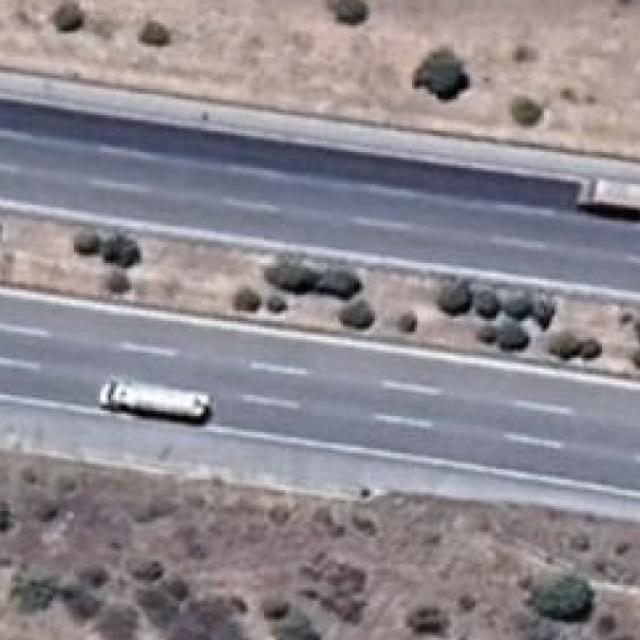Tree: (528, 566, 597, 626), (409, 46, 477, 102), (8, 572, 59, 620), (315, 260, 356, 309), (321, 0, 383, 31), (500, 96, 540, 143), (435, 273, 475, 319), (270, 606, 324, 640), (542, 329, 583, 372), (338, 292, 380, 332), (56, 586, 94, 628), (98, 601, 138, 640), (131, 20, 171, 57), (472, 287, 512, 324), (130, 548, 171, 584), (406, 604, 448, 638), (99, 235, 143, 266), (74, 558, 111, 592), (274, 266, 312, 298), (49, 0, 85, 33), (227, 284, 259, 321), (66, 226, 100, 260), (532, 295, 568, 327), (96, 268, 132, 298), (576, 335, 607, 365), (0, 492, 19, 540), (499, 324, 528, 355), (511, 286, 536, 321), (400, 314, 430, 342), (260, 293, 285, 325), (454, 588, 482, 616), (473, 326, 499, 353), (609, 629, 640, 640), (0, 215, 9, 247)
